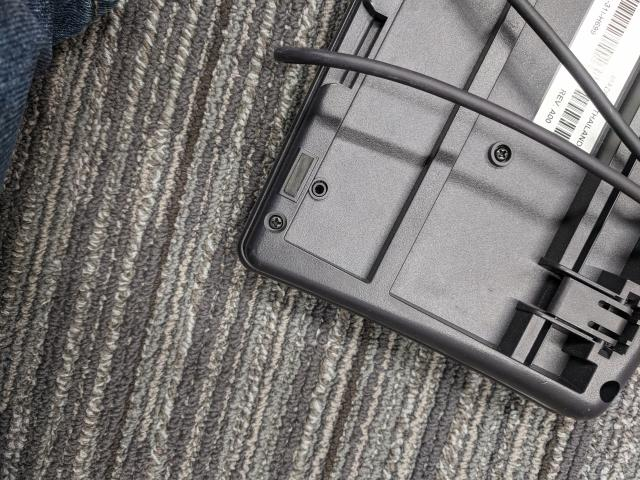CRS: (494, 146, 512, 163), (268, 214, 286, 230)
